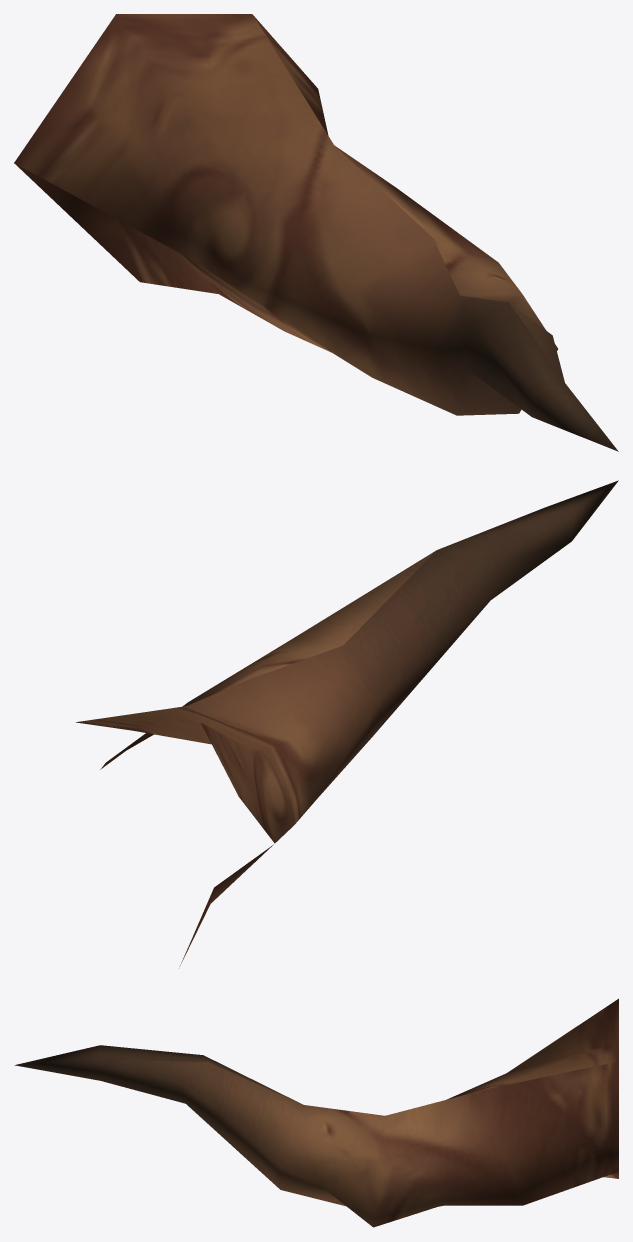
The model's file is tree_01.glb.
3 renders of one model, top to bottom at view 1: azimuth 30°, elevation 25°; view 2: azimuth 150°, elevation 25°; view 3: azimuth 270°, elevation 25°, orthographic. The views are drawn at different scales.
Visible parts, largest first — view 1: nature.tree_01-Mesh[0]; view 2: nature.tree_01-Mesh[0]; view 3: nature.tree_01-Mesh[0].
Part boxes in pixels (box(x1,y1,x2,y2)): nature.tree_01-Mesh[0]: box(14, 14, 618, 451); nature.tree_01-Mesh[0]: box(76, 480, 618, 965); nature.tree_01-Mesh[0]: box(14, 998, 618, 1227).
Size of the model in its own units: 1.37 by 1.15 by 3.55.
Materials: 1 (1 with a texture image).
